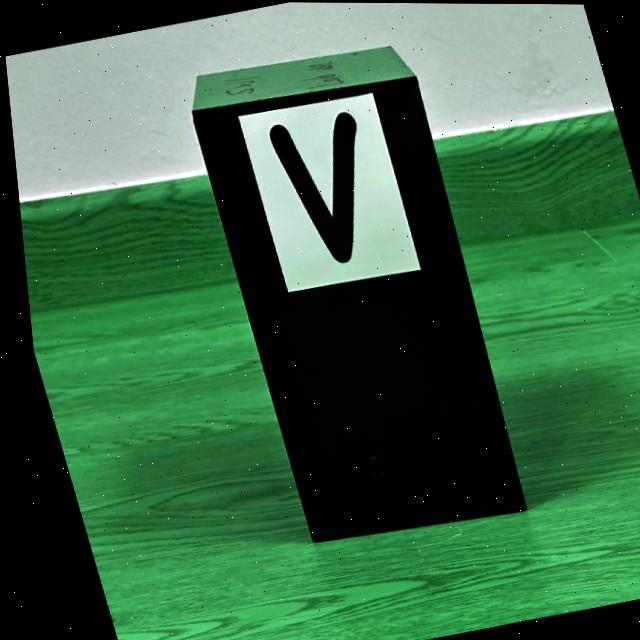V: (267, 112, 354, 263)
